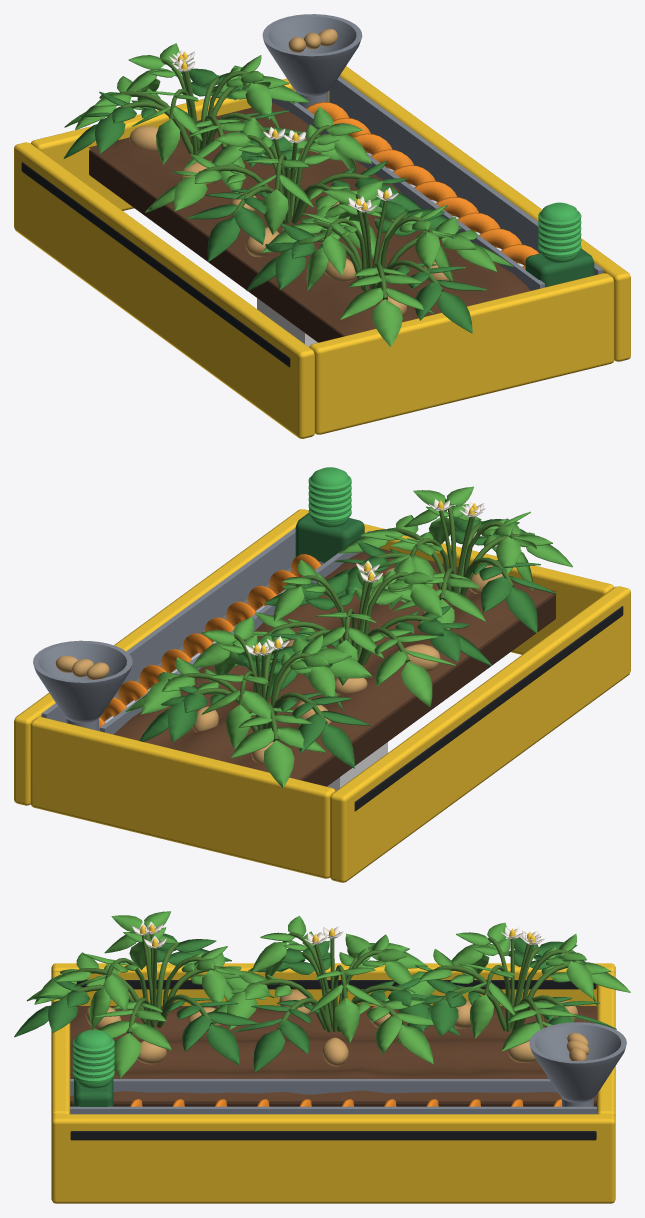
The model's file is AutoBedT1.fbx.
3 renders of one model, top to bottom at view 1: azimuth 30°, elevation 25°; view 2: azimuth 150°, elevation 25°; view 3: azimuth 270°, elevation 25°, orthographic. The views are drawn at different scales.
Parts seen in each view (by area): view 1: Body__Yellow.002, Body__Soil.003, Body__Steel.002, Bush/Plant0__Leaf@sway_x_2.5_3.14_0.15#-0.503,0.97,1.9, Bush/Plant1__Leaf@sway_x_2.5_3.14_0.45#-0.397,0.97,0, Bush/Plant2__Leaf@sway_x_2.5_3.14_0.75#-0.384,0.97,-1.9, Body__SoilDark.003, Bush/Plant0__LeafDark@sway_x_2.5_3.14_0.15#-0.503,0.97,1.9, Auger__Orange@spin_z_-360#1.38,0.66,0, Bush/Plant1__LeafDark@sway_x_2.5_3.14_0.45#-0.397,0.97,0, Bush/Plant0__Stem@sway_x_2.5_3.14_0.15#-0.503,0.97,1.9, Bush/Plant2__Stem@sway_x_2.5_3.14_0.75#-0.384,0.97,-1.9 (+8 smaller); view 2: Body__Yellow.002, Body__Soil.003, Body__Steel.002, Bush/Plant2__Leaf@sway_x_2.5_3.14_0.75#-0.384,0.97,-1.9, Bush/Plant1__Leaf@sway_x_2.5_3.14_0.45#-0.397,0.97,0, Bush/Plant0__Leaf@sway_x_2.5_3.14_0.15#-0.503,0.97,1.9, Body__SoilDark.003, Bush/Plant2__LeafDark@sway_x_2.5_3.14_0.75#-0.384,0.97,-1.9, Auger__Orange@spin_z_-360#1.38,0.66,0, Bush/Plant0__LeafDark@sway_x_2.5_3.14_0.15#-0.503,0.97,1.9, Bush/Plant1__LeafDark@sway_x_2.5_3.14_0.45#-0.397,0.97,0, Bush/Plant0__Stem@sway_x_2.5_3.14_0.15#-0.503,0.97,1.9 (+8 smaller); view 3: Body__Yellow.002, Body__Soil.003, Body__Steel.002, Bush/Plant1__Leaf@sway_x_2.5_3.14_0.45#-0.397,0.97,0, Bush/Plant0__Leaf@sway_x_2.5_3.14_0.15#-0.503,0.97,1.9, Bush/Plant2__Leaf@sway_x_2.5_3.14_0.75#-0.384,0.97,-1.9, Body__Black.001, Bush/Plant0__LeafDark@sway_x_2.5_3.14_0.15#-0.503,0.97,1.9, Bush/Plant1__LeafDark@sway_x_2.5_3.14_0.45#-0.397,0.97,0, Bush/Plant0__Stem@sway_x_2.5_3.14_0.15#-0.503,0.97,1.9, Bush/Plant2__Stem@sway_x_2.5_3.14_0.75#-0.384,0.97,-1.9, Bush/Plant2__LeafDark@sway_x_2.5_3.14_0.75#-0.384,0.97,-1.9 (+7 smaller).
Part boxes in pixels (x1=…): Body__Yellow.002: x1=14, y1=66, x2=630, y2=438; Body__Soil.003: x1=88, y1=103, x2=530, y2=335; Body__Steel.002: x1=262, y1=14, x2=603, y2=290; Bush/Plant0__Leaf@sway_x_2.5_3.14_0.15#-0.503,0.97,1.9: x1=262, y1=181, x2=513, y2=347; Bush/Plant1__Leaf@sway_x_2.5_3.14_0.45#-0.397,0.97,0: x1=145, y1=106, x2=393, y2=258; Bush/Plant2__Leaf@sway_x_2.5_3.14_0.75#-0.384,0.97,-1.9: x1=64, y1=43, x2=309, y2=193; Body__SoilDark.003: x1=89, y1=149, x2=344, y2=342; Bush/Plant0__LeafDark@sway_x_2.5_3.14_0.15#-0.503,0.97,1.9: x1=246, y1=200, x2=486, y2=333; Auger__Orange@spin_z_-360#1.38,0.66,0: x1=306, y1=102, x2=538, y2=268; Bush/Plant1__LeafDark@sway_x_2.5_3.14_0.45#-0.397,0.97,0: x1=187, y1=133, x2=421, y2=261; Bush/Plant0__Stem@sway_x_2.5_3.14_0.15#-0.503,0.97,1.9: x1=289, y1=195, x2=453, y2=299; Bush/Plant2__Stem@sway_x_2.5_3.14_0.75#-0.384,0.97,-1.9: x1=107, y1=59, x2=267, y2=154; Body__Yellow.002: x1=14, y1=509, x2=630, y2=882; Body__Soil.003: x1=114, y1=548, x2=556, y2=779; Body__Steel.002: x1=33, y1=527, x2=370, y2=734; Bush/Plant2__Leaf@sway_x_2.5_3.14_0.75#-0.384,0.97,-1.9: x1=125, y1=617, x2=372, y2=788; Bush/Plant1__Leaf@sway_x_2.5_3.14_0.45#-0.397,0.97,0: x1=233, y1=556, x2=455, y2=706; Bush/Plant0__Leaf@sway_x_2.5_3.14_0.15#-0.503,0.97,1.9: x1=339, y1=486, x2=572, y2=635; Body__SoilDark.003: x1=299, y1=594, x2=555, y2=786; Bush/Plant2__LeafDark@sway_x_2.5_3.14_0.75#-0.384,0.97,-1.9: x1=139, y1=643, x2=370, y2=768; Auger__Orange@spin_z_-360#1.38,0.66,0: x1=99, y1=554, x2=321, y2=730; Bush/Plant0__LeafDark@sway_x_2.5_3.14_0.15#-0.503,0.97,1.9: x1=333, y1=517, x2=556, y2=633; Bush/Plant1__LeafDark@sway_x_2.5_3.14_0.45#-0.397,0.97,0: x1=264, y1=574, x2=491, y2=697; Bush/Plant0__Stem@sway_x_2.5_3.14_0.15#-0.503,0.97,1.9: x1=356, y1=499, x2=520, y2=600; Body__Yellow.002: x1=51, y1=963, x2=615, y2=1203; Body__Soil.003: x1=70, y1=1006, x2=596, y2=1101; Body__Steel.002: x1=70, y1=1022, x2=626, y2=1114; Bush/Plant1__Leaf@sway_x_2.5_3.14_0.45#-0.397,0.97,0: x1=212, y1=915, x2=433, y2=1064; Bush/Plant0__Leaf@sway_x_2.5_3.14_0.15#-0.503,0.97,1.9: x1=26, y1=911, x2=274, y2=1078; Bush/Plant2__Leaf@sway_x_2.5_3.14_0.75#-0.384,0.97,-1.9: x1=384, y1=922, x2=630, y2=1063; Body__Black.001: x1=70, y1=980, x2=596, y2=1140; Bush/Plant0__LeafDark@sway_x_2.5_3.14_0.15#-0.503,0.97,1.9: x1=14, y1=933, x2=257, y2=1065; Bush/Plant1__LeafDark@sway_x_2.5_3.14_0.45#-0.397,0.97,0: x1=232, y1=940, x2=460, y2=1072; Bush/Plant0__Stem@sway_x_2.5_3.14_0.15#-0.503,0.97,1.9: x1=60, y1=923, x2=221, y2=1034; Bush/Plant2__Stem@sway_x_2.5_3.14_0.75#-0.384,0.97,-1.9: x1=434, y1=937, x2=576, y2=1031; Bush/Plant2__LeafDark@sway_x_2.5_3.14_0.75#-0.384,0.97,-1.9: x1=397, y1=937, x2=616, y2=1042.
Size of the model in its own units: 402 by 256 by 656.
